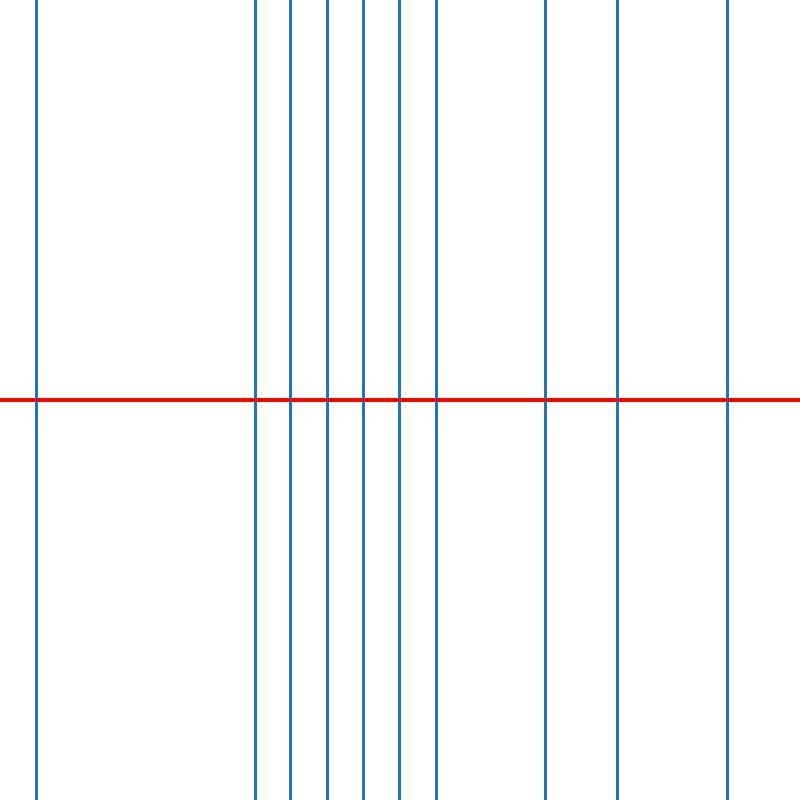root: (541, 396, 549, 404), (432, 396, 440, 404), (32, 396, 40, 404), (250, 396, 258, 404), (323, 396, 330, 404), (360, 396, 367, 404), (287, 396, 294, 404), (614, 396, 621, 404), (723, 396, 730, 404), (396, 396, 403, 404)
